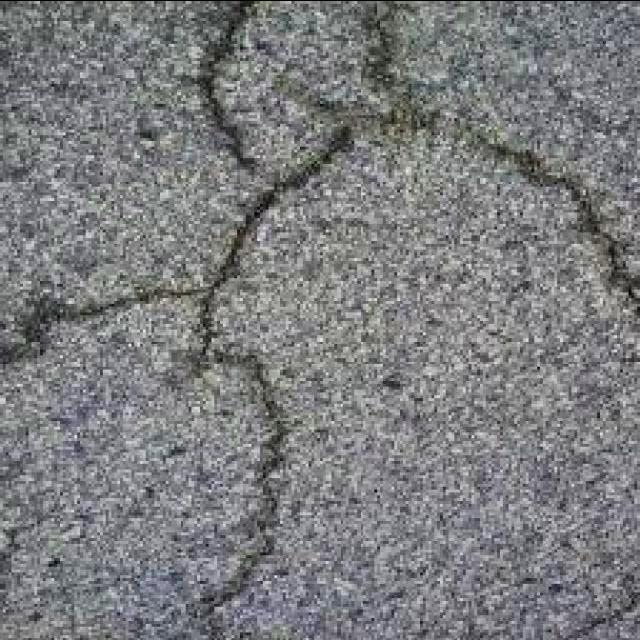SurfaceCrack: (34, 14, 616, 640)
